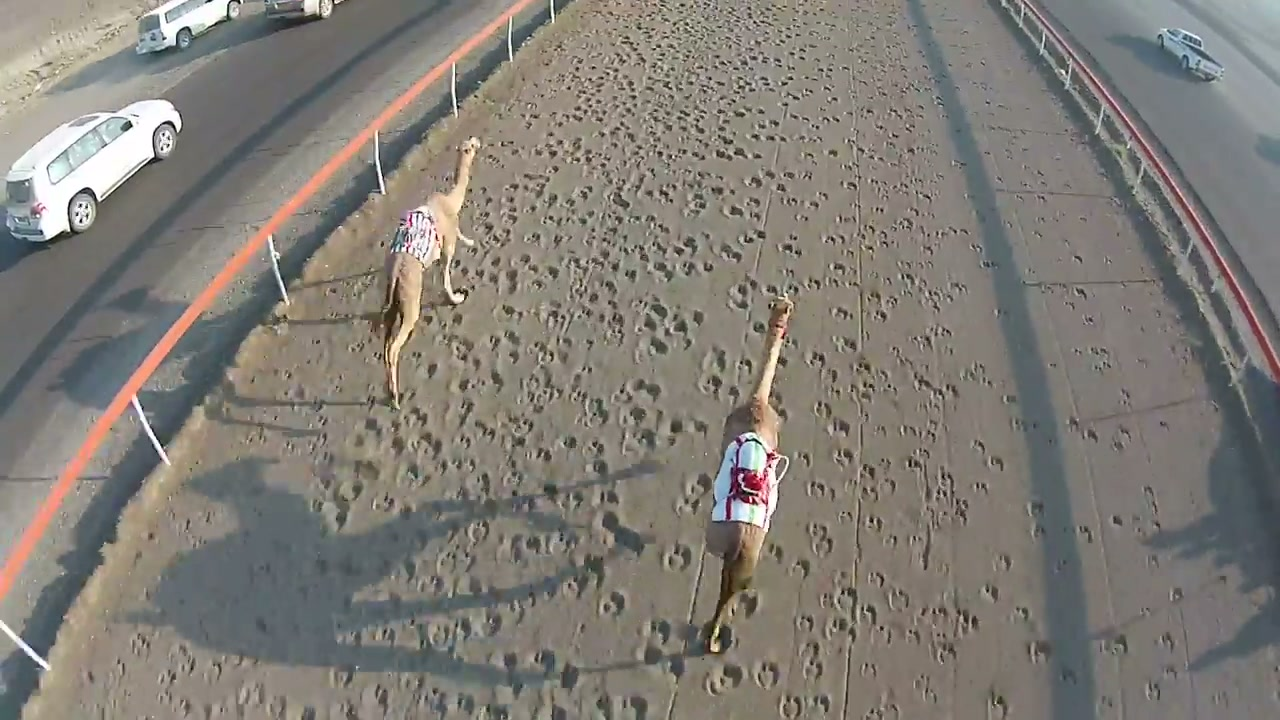animal_foot_print: (317, 11, 697, 535), (606, 14, 815, 708), (786, 58, 911, 717)
